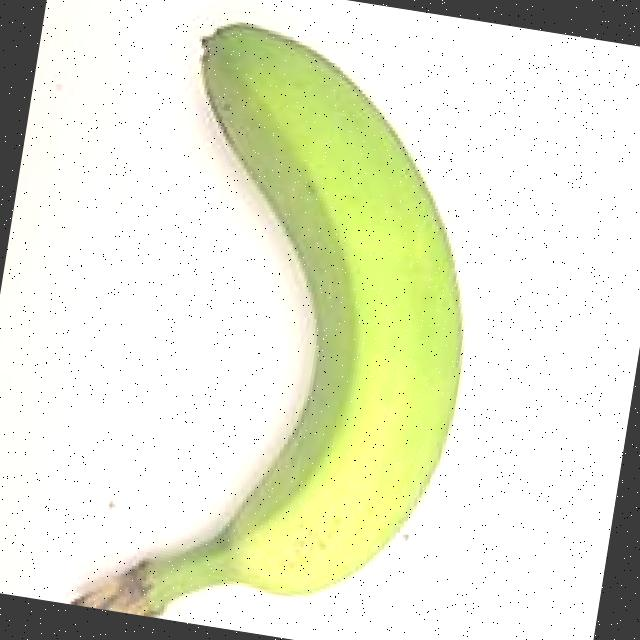Unripe: (42, 0, 542, 640)
